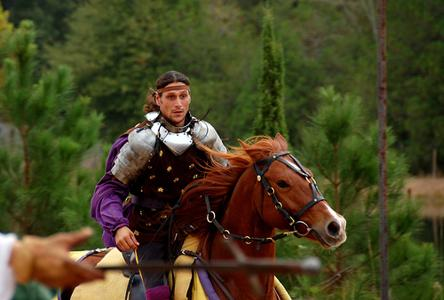person: (89, 68, 236, 300)
